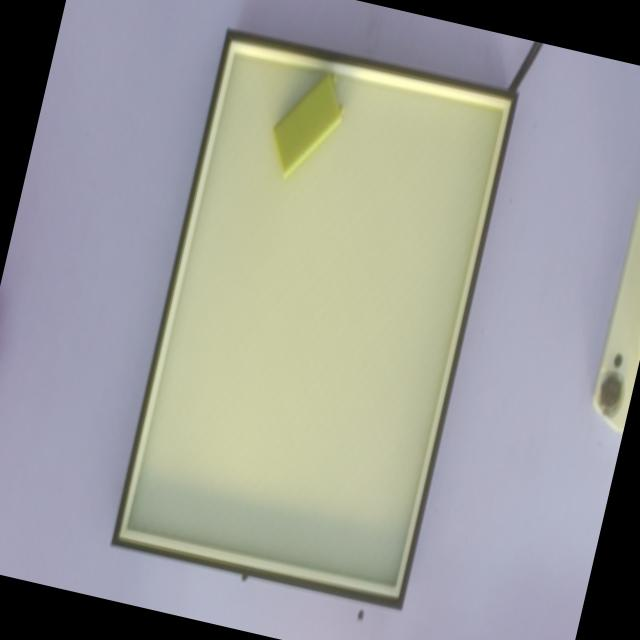bateria: (272, 69, 346, 180)
mesa: (110, 27, 519, 610)
